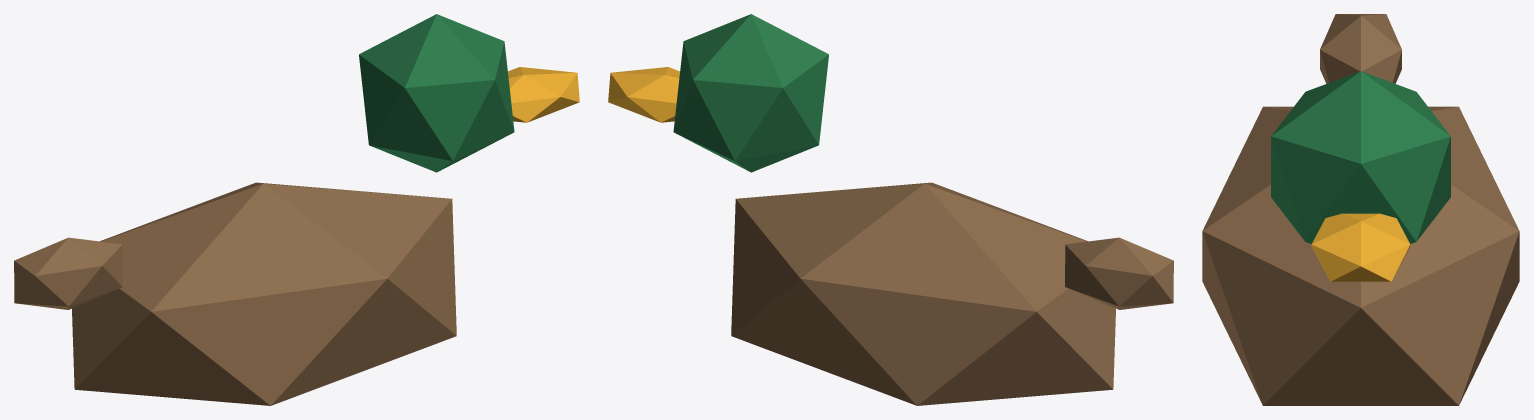
The model's file is duck.glb.
3 renders of one model, left to right at view 1: azimuth 30°, elevation 25°; view 2: azimuth 150°, elevation 25°; view 3: azimuth 270°, elevation 25°, orthographic. The views are drawn at different scales.
Visible parts, largest first — view 1: duck; view 2: duck; view 3: duck.
Boxes of the visible parts, x1=… form: duck: x1=14, y1=14, x2=579, y2=405; duck: x1=608, y1=14, x2=1173, y2=405; duck: x1=1202, y1=14, x2=1519, y2=405.
Size of the model in its own units: 0.5202 by 0.3075 by 0.2101.
